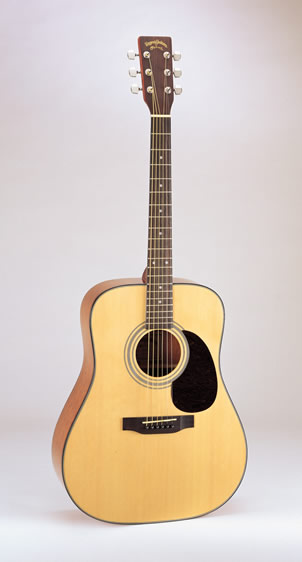guitar: (52, 37, 250, 528)
